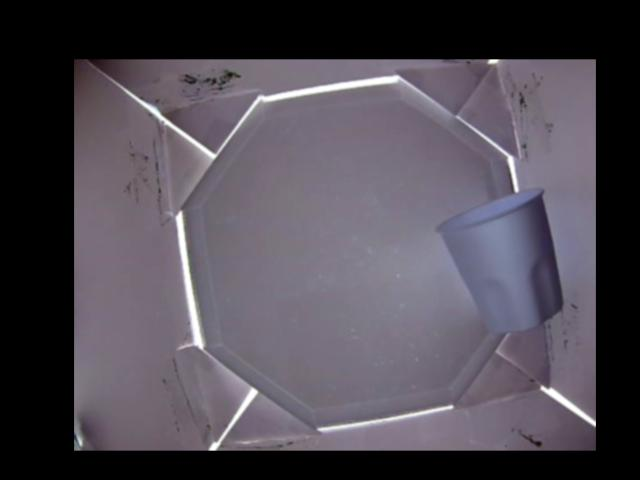Cup: (436, 188, 567, 332)
